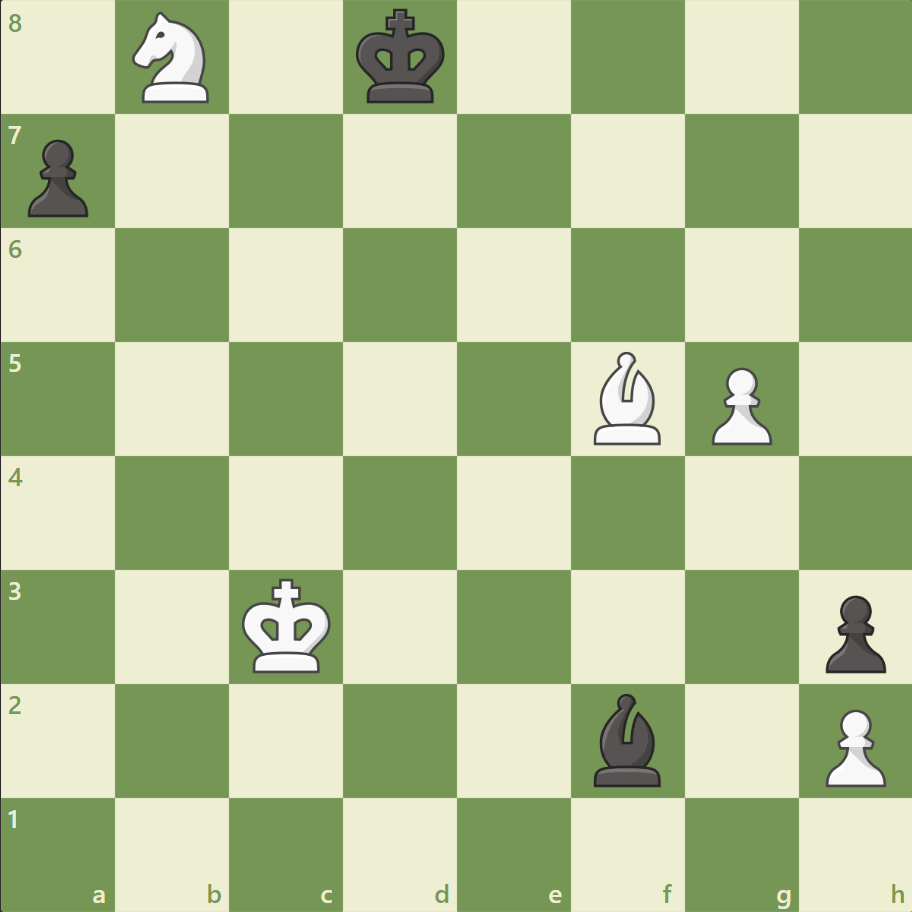B: (585, 347, 669, 449)
K: (238, 571, 338, 679)
N: (124, 7, 222, 110)
P: (701, 359, 776, 450), (815, 700, 889, 791)
b: (585, 687, 669, 790)
k: (351, 4, 451, 112)
p: (20, 132, 95, 223), (815, 586, 889, 677)
